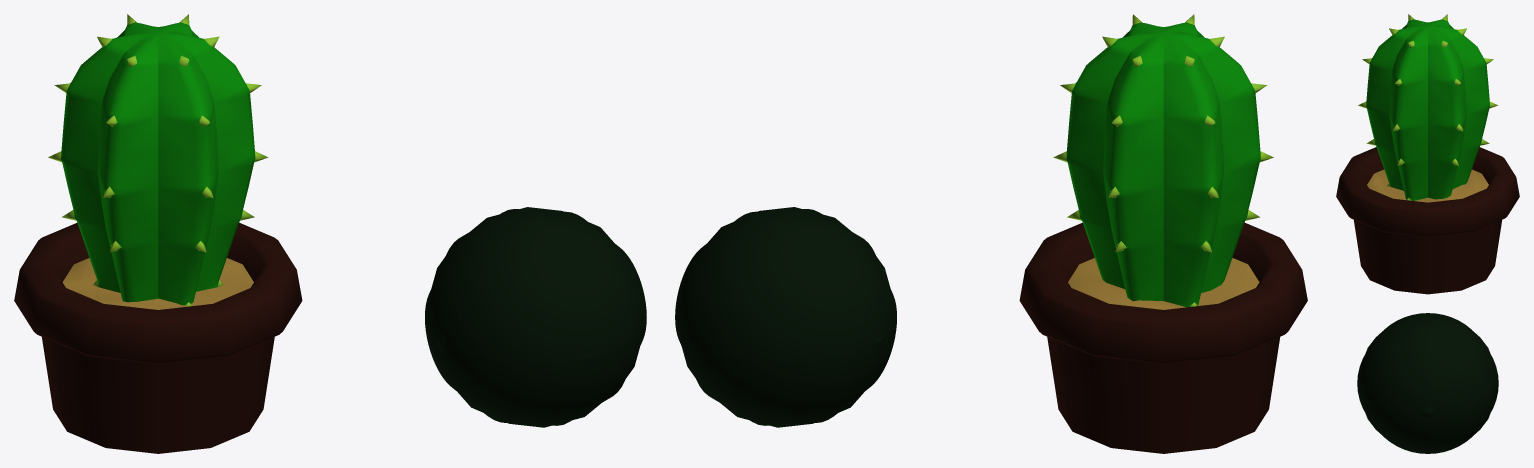
File: Melon.FBX
The picture shows the model from 3 angles, left to right: view 1: azimuth 30°, elevation 25°; view 2: azimuth 150°, elevation 25°; view 3: azimuth 270°, elevation 25°; orthographic projection. The views are drawn at different scales.
Parts seen in each view (by area): view 1: Cactus, Melon, MelonSlices, MelonSlices1, MelonSlices3; view 2: Cactus, Melon, MelonSlices3, MelonSlices2, MelonSlices; view 3: Cactus, Melon, MelonSlices, MelonSlices3, MelonSlices2, MelonSlices1.
Boxes of the visible parts, x1,y1,x2,y2 form: Cactus: (14,14,302,453); Melon: (427,207,644,427); MelonSlices: (439,217,646,364); MelonSlices1: (440,318,646,425); MelonSlices3: (425,209,583,340); Cactus: (1019,14,1307,453); Melon: (677,207,894,427); MelonSlices3: (675,217,881,364); MelonSlices2: (675,318,881,425); MelonSlices: (739,209,896,340); Cactus: (1336,14,1519,294); Melon: (1358,314,1497,452); MelonSlices: (1357,313,1427,413); MelonSlices3: (1428,313,1498,413); MelonSlices2: (1428,384,1498,453); MelonSlices1: (1357,384,1427,453).
Bounding box in the file's own units: 7.35 × 5.59 × 3.07.
